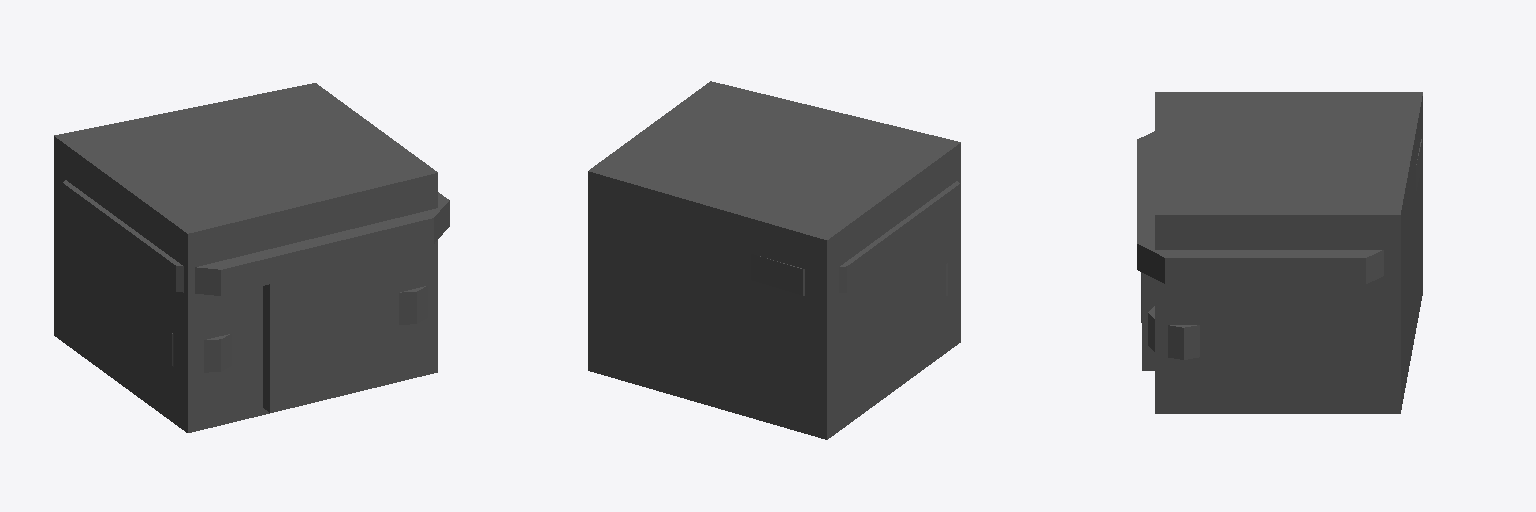
Rendered from 100Bumper.obj.
3 renders of one model, left to right at view 1: azimuth 30°, elevation 25°; view 2: azimuth 150°, elevation 25°; view 3: azimuth 270°, elevation 25°, orthographic.
Visible parts, largest first — view 1: MicroBumper_Base_Untitled.049; view 2: MicroBumper_Base_Untitled.049; view 3: MicroBumper_Base_Untitled.049.
Part boxes in pixels (x1,y1,x2,y2): MicroBumper_Base_Untitled.049: (54,83,449,432); MicroBumper_Base_Untitled.049: (588,81,960,439); MicroBumper_Base_Untitled.049: (1137,92,1422,413).
Size of the model in its own units: 0.0758 by 0.0531 by 0.0691.